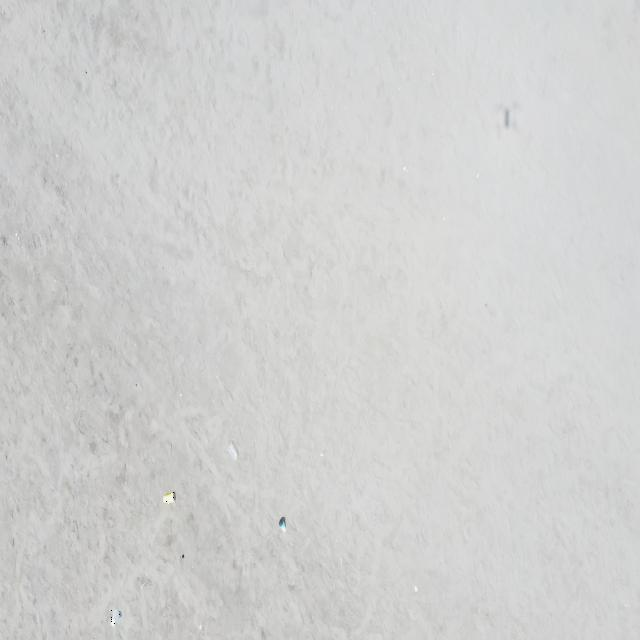takeaway-cup: (228, 441, 238, 461), (110, 610, 120, 628), (163, 492, 175, 504), (279, 518, 286, 534)
